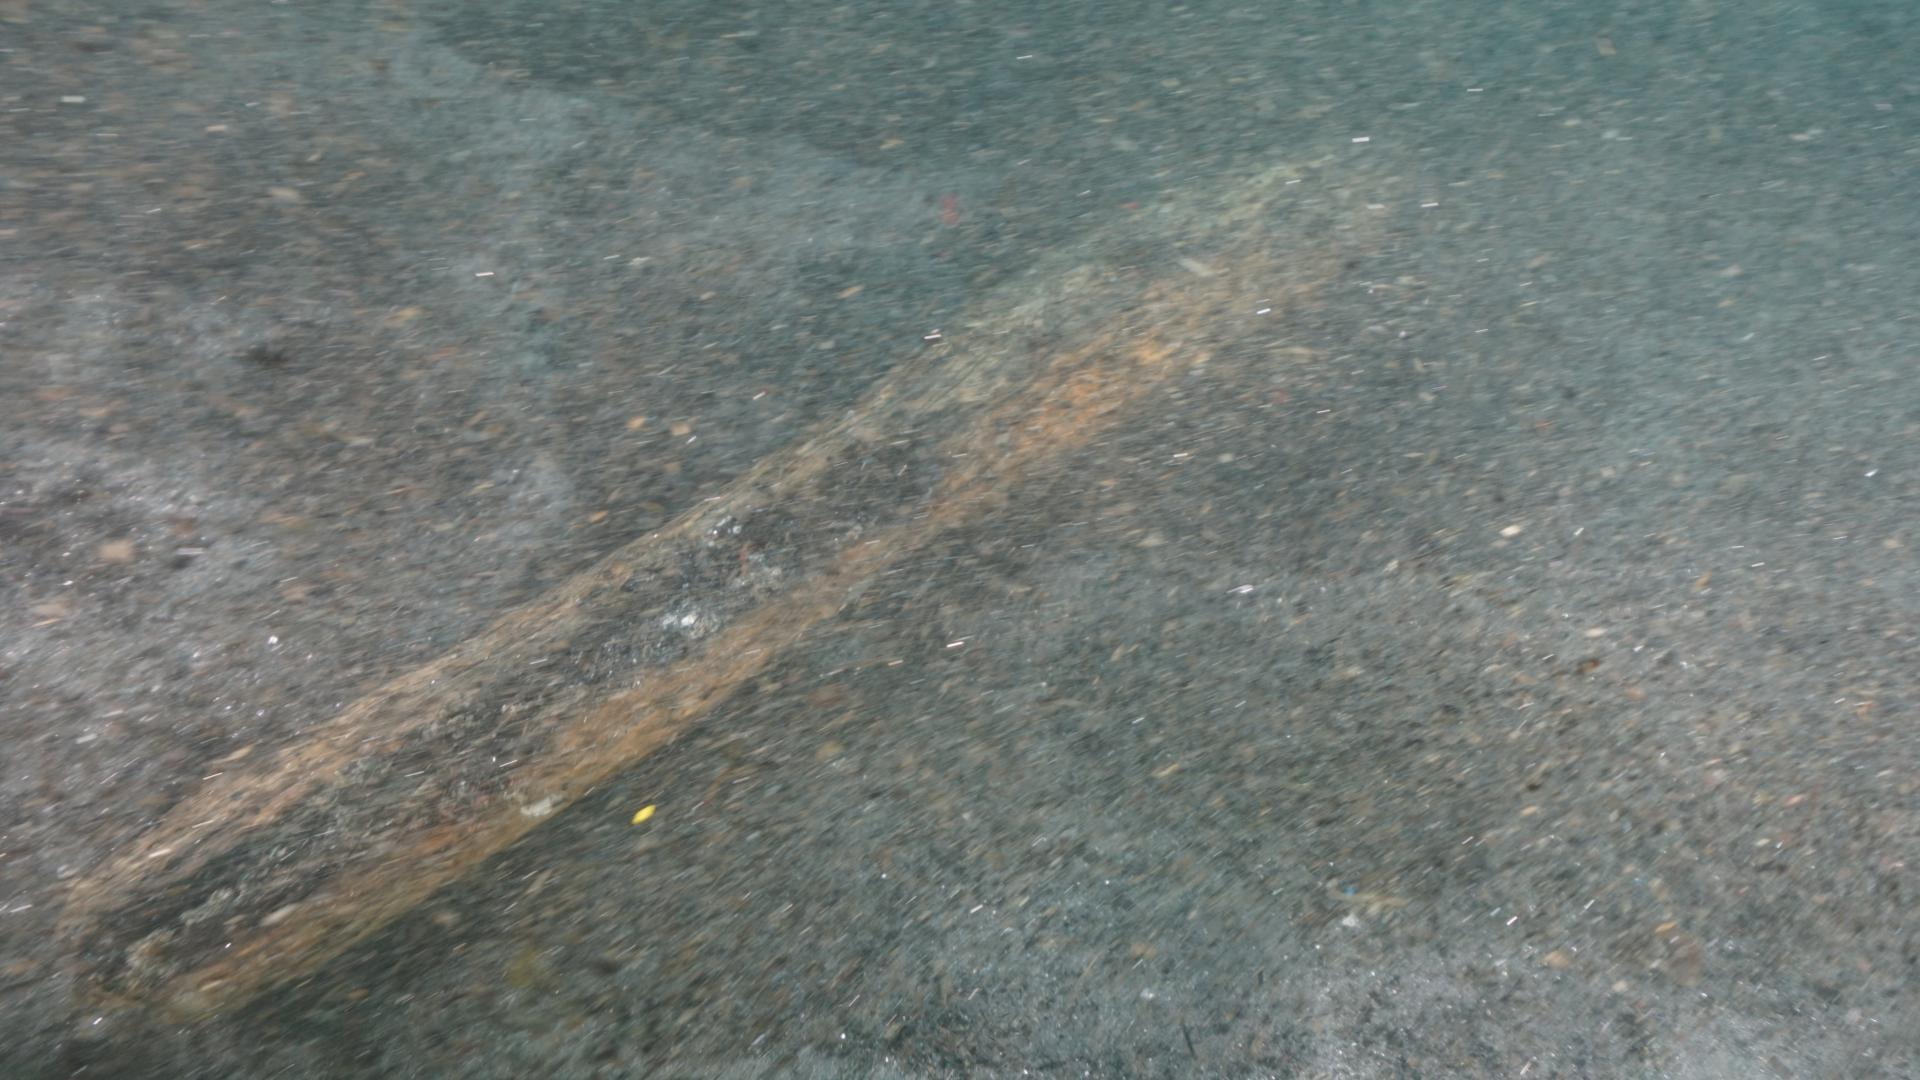wood: (59, 138, 1394, 1035)
